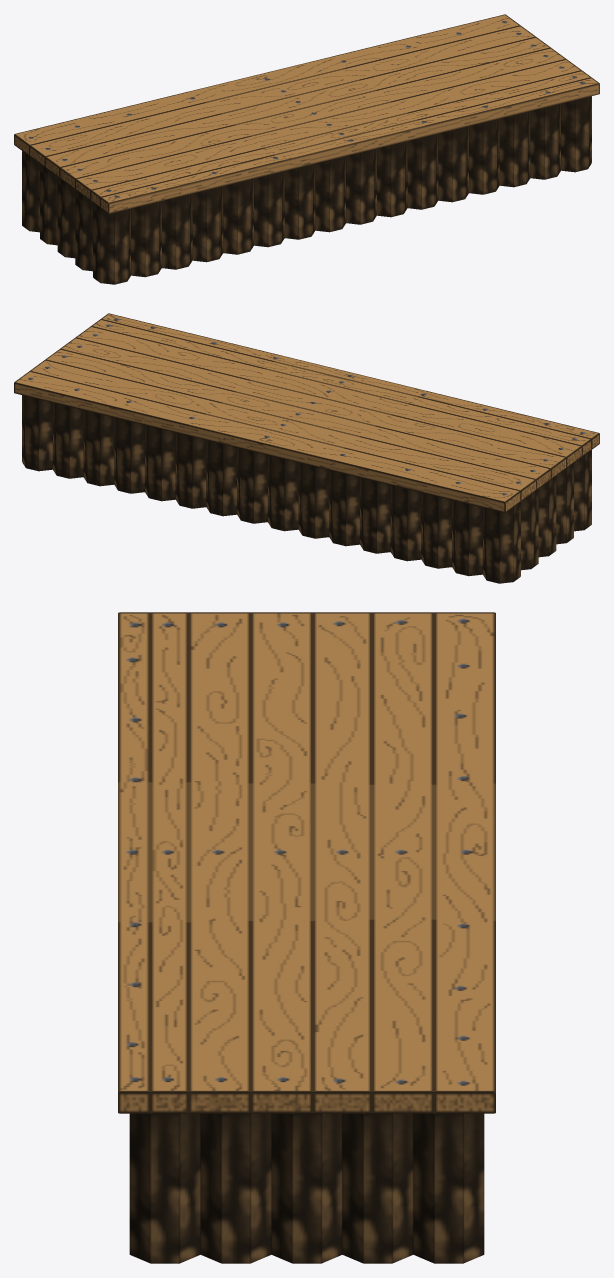
Rendered from counter.fbx.
The picture shows the model from 3 angles, top to bottom: view 1: azimuth 30°, elevation 25°; view 2: azimuth 150°, elevation 25°; view 3: azimuth 270°, elevation 25°; orthographic projection. The views are drawn at different scales.
Visible parts, largest first — view 1: counter; view 2: counter; view 3: counter.
Boxes of the visible parts, box(x1,y1,x2,y2) form: counter: box(14, 14, 599, 284); counter: box(14, 313, 599, 583); counter: box(118, 612, 495, 1263).
Size of the model in its own units: 300 by 50 by 100.
Materials: 1 (1 with a texture image).
